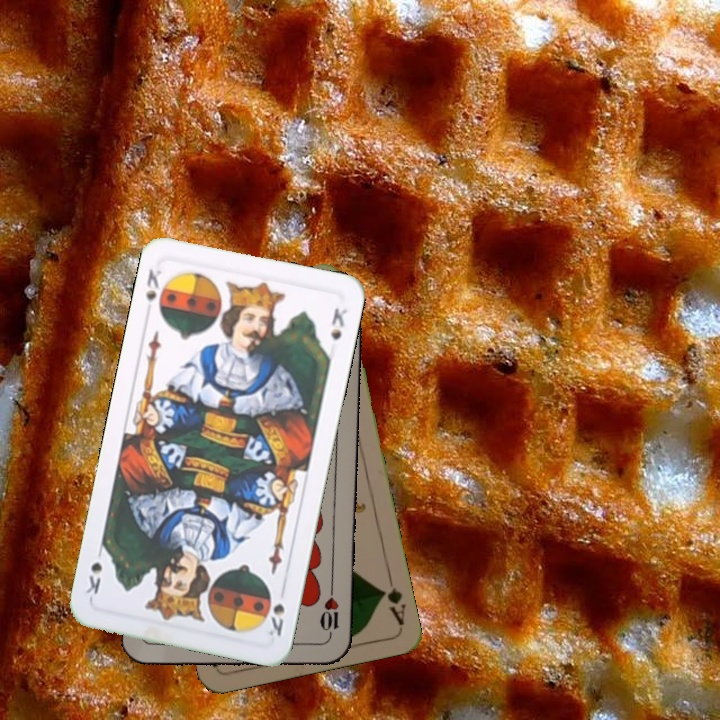GA: (376, 569, 408, 628)
H10: (316, 584, 342, 643)
SK: (264, 599, 288, 639), (141, 265, 164, 304)
